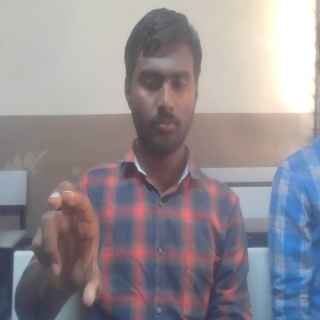Face: (122, 8, 203, 157)
No: (30, 178, 105, 310)
